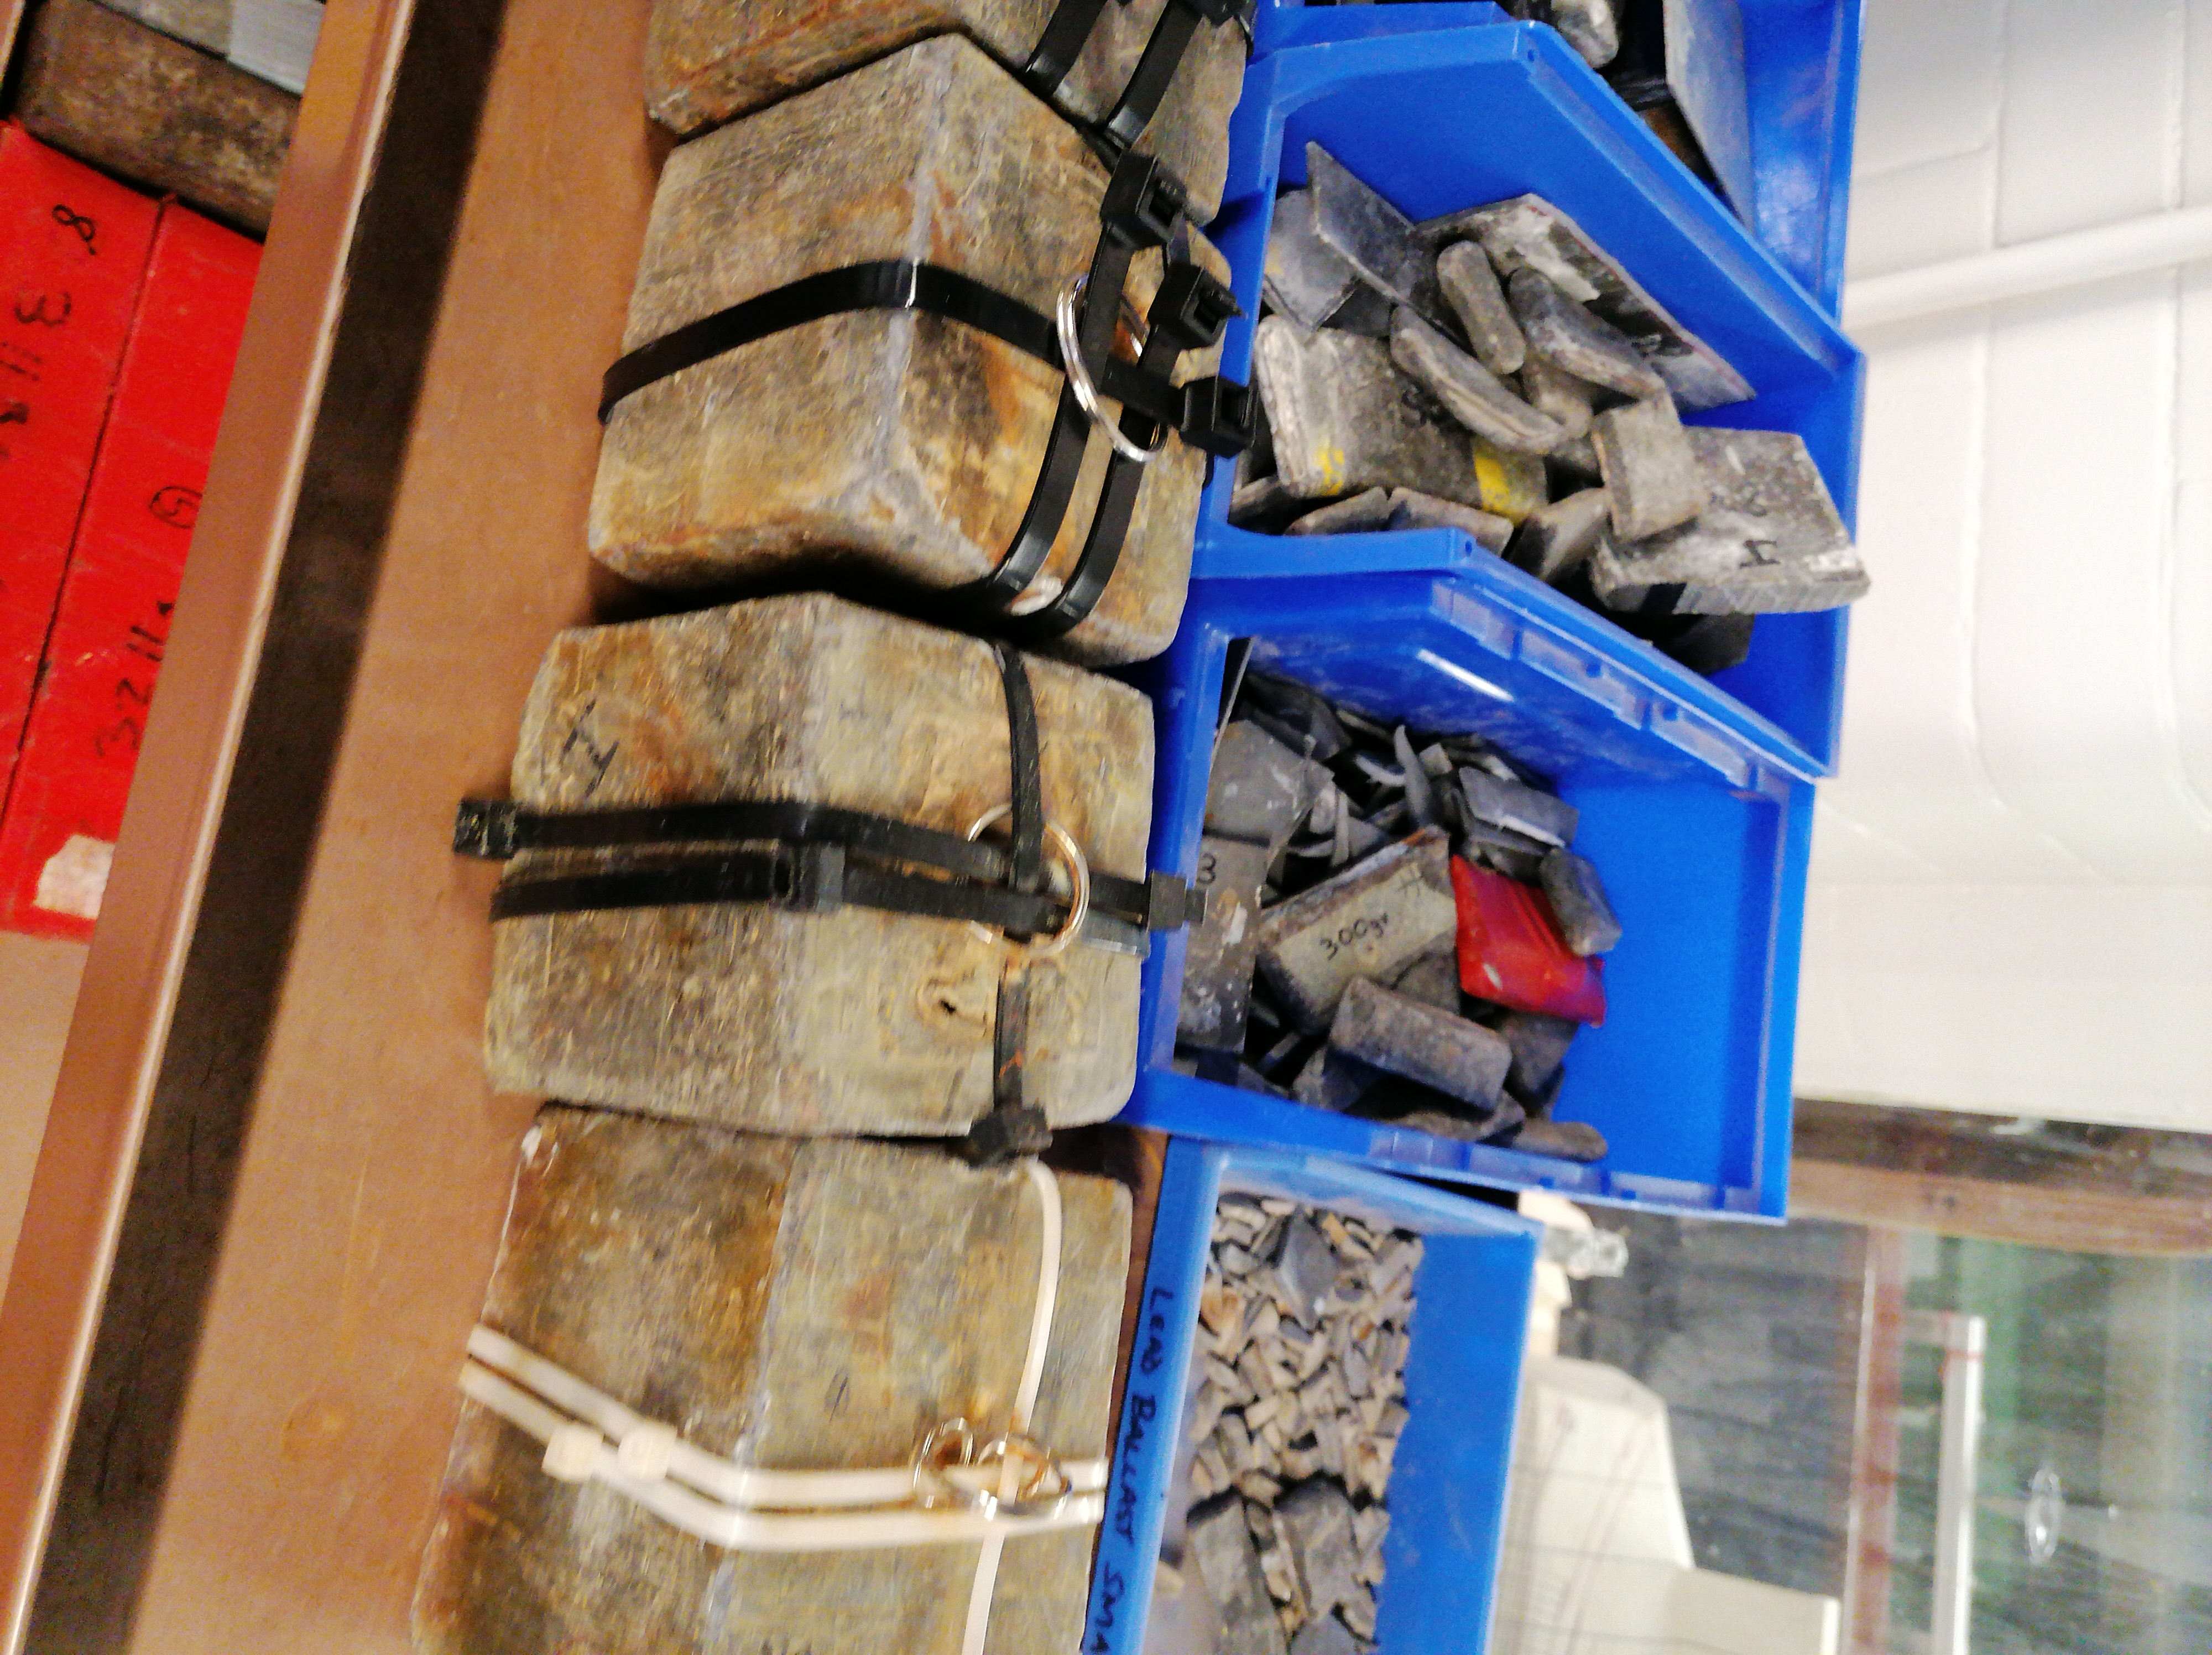lead_block: (584, 31, 1249, 664), (459, 603, 1206, 1156), (414, 1111, 1133, 1655), (641, 0, 1260, 221)
